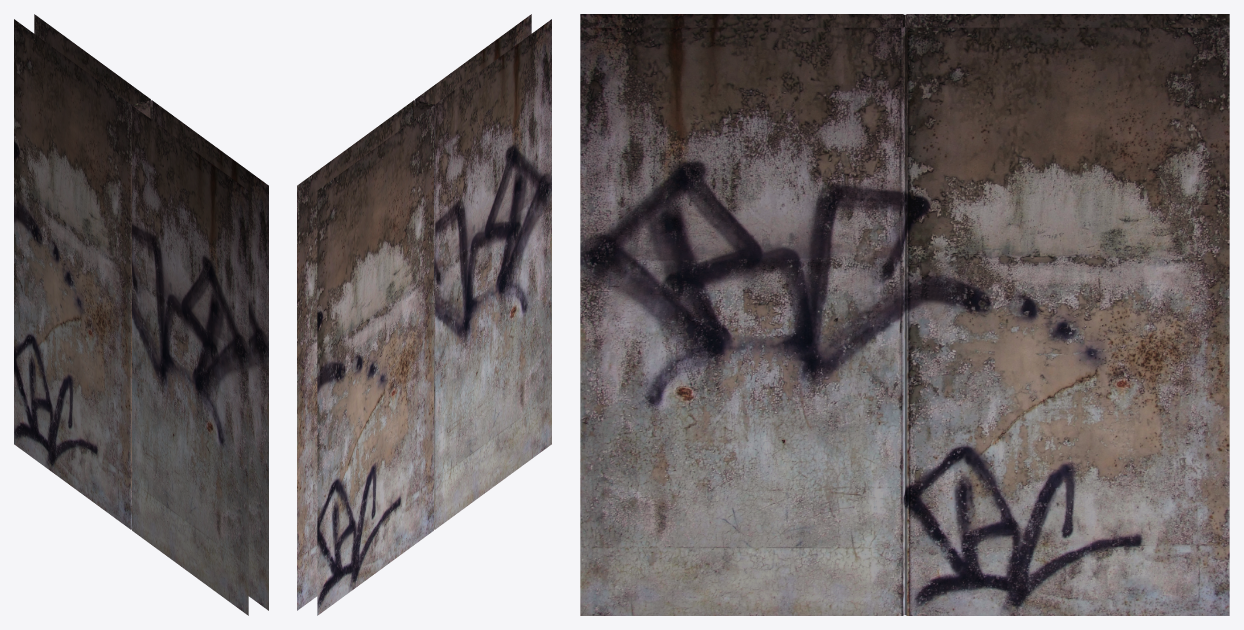
File: elevator_left_door.obj
3 views of the same model, side by side, from view 1: azimuth 30°, elevation 25°; view 2: azimuth 150°, elevation 25°; view 3: azimuth 270°, elevation 25° (orthographic). The views are drawn at different scales.
Parts seen in each view (by area): view 1: ElevatorLeftDoor, ElevatorRightDoor; view 2: ElevatorRightDoor, ElevatorLeftDoor; view 3: ElevatorRightDoor, ElevatorLeftDoor.
Boxes of the visible parts, x1,y1,x2,y2 form: ElevatorLeftDoor: (132, 100, 268, 615); ElevatorRightDoor: (14, 14, 150, 529); ElevatorRightDoor: (297, 100, 433, 615); ElevatorLeftDoor: (415, 14, 551, 529); ElevatorRightDoor: (905, 14, 1229, 615); ElevatorLeftDoor: (580, 14, 904, 615).
Bounding box in the file's own units: 0.1 × 2 × 2.
1 material, 1 textured.
